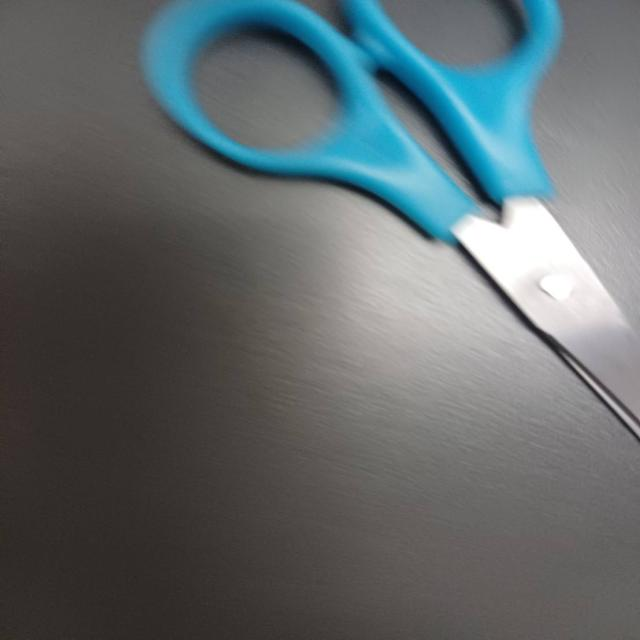scissors: (124, 1, 640, 443)
